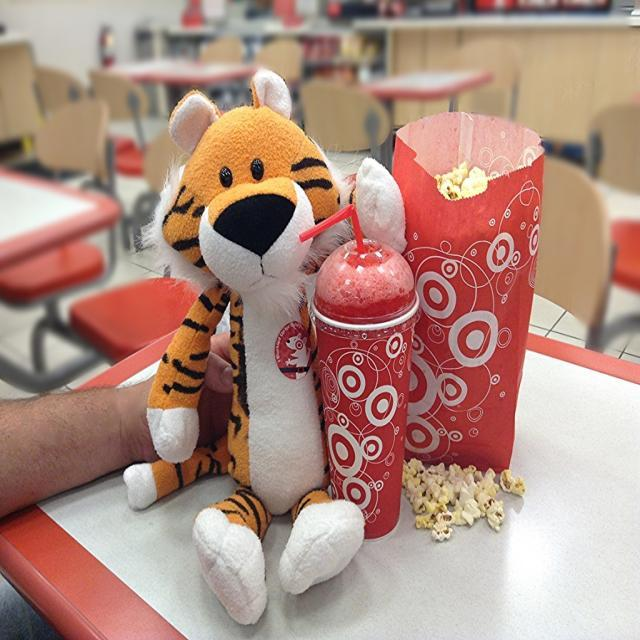Popcorn: (403, 454, 528, 542), (432, 158, 499, 200)
